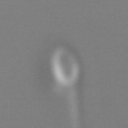normal: (66, 85, 85, 128)
